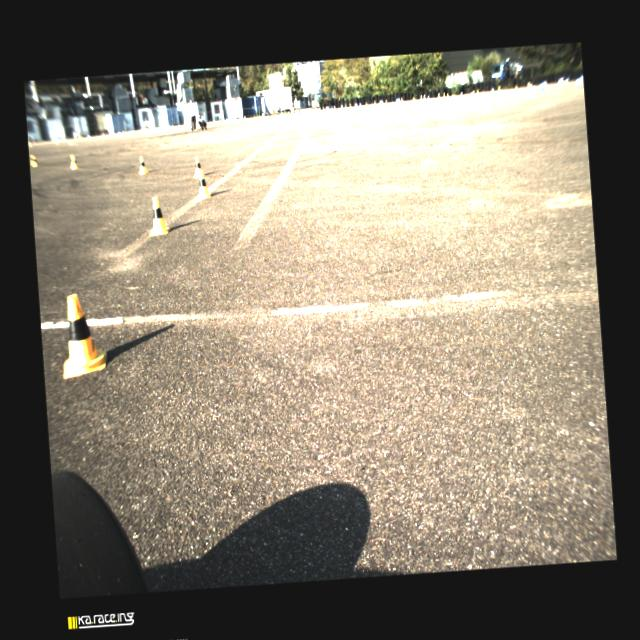yellow_cone: (58, 292, 108, 378), (147, 196, 169, 236), (194, 172, 210, 200), (136, 155, 148, 174), (68, 153, 78, 170), (194, 156, 200, 170)
